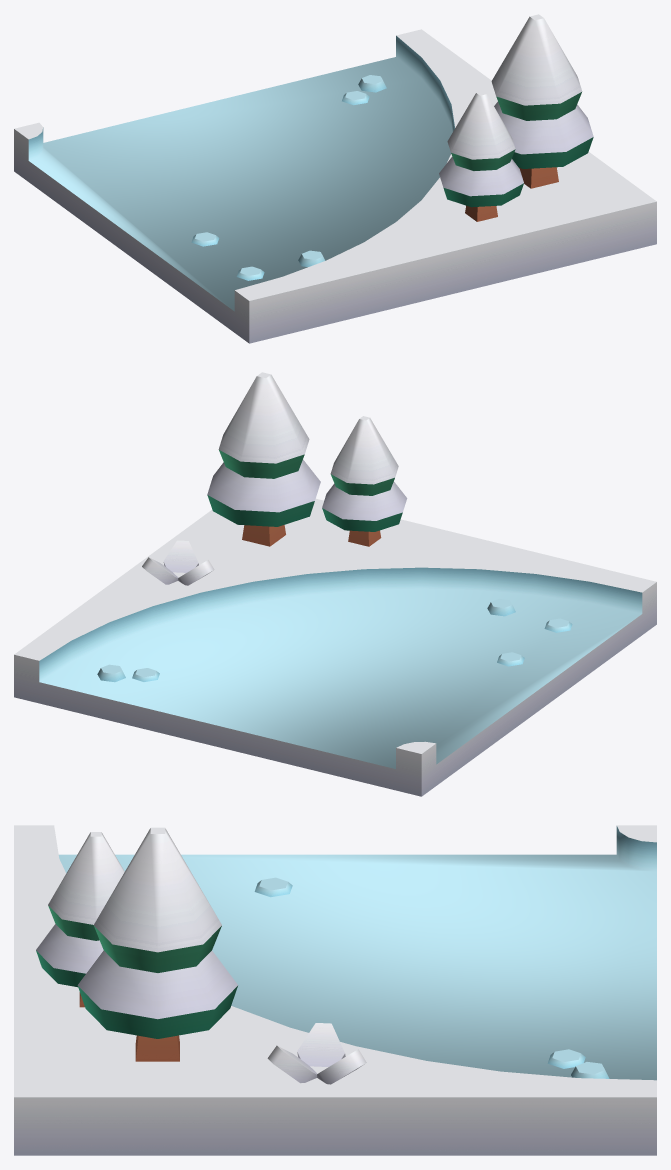
File: snow-tile-wide-corner.glb
3 renders of one model, top to bottom at view 1: azimuth 30°, elevation 25°; view 2: azimuth 150°, elevation 25°; view 3: azimuth 270°, elevation 25°, orthographic. The views are drawn at different scales.
Parts seen in each view (by area): view 1: snow-tile-wide-corner; view 2: snow-tile-wide-corner; view 3: snow-tile-wide-corner.
Boxes of the visible parts, <box> form: snow-tile-wide-corner: <box>14,14,656,343</box>; snow-tile-wide-corner: <box>14,372,656,796</box>; snow-tile-wide-corner: <box>14,825,656,1155</box>.
Size of the model in its own units: 2 by 0.96 by 2.
Materials: 1 (1 with a texture image).
